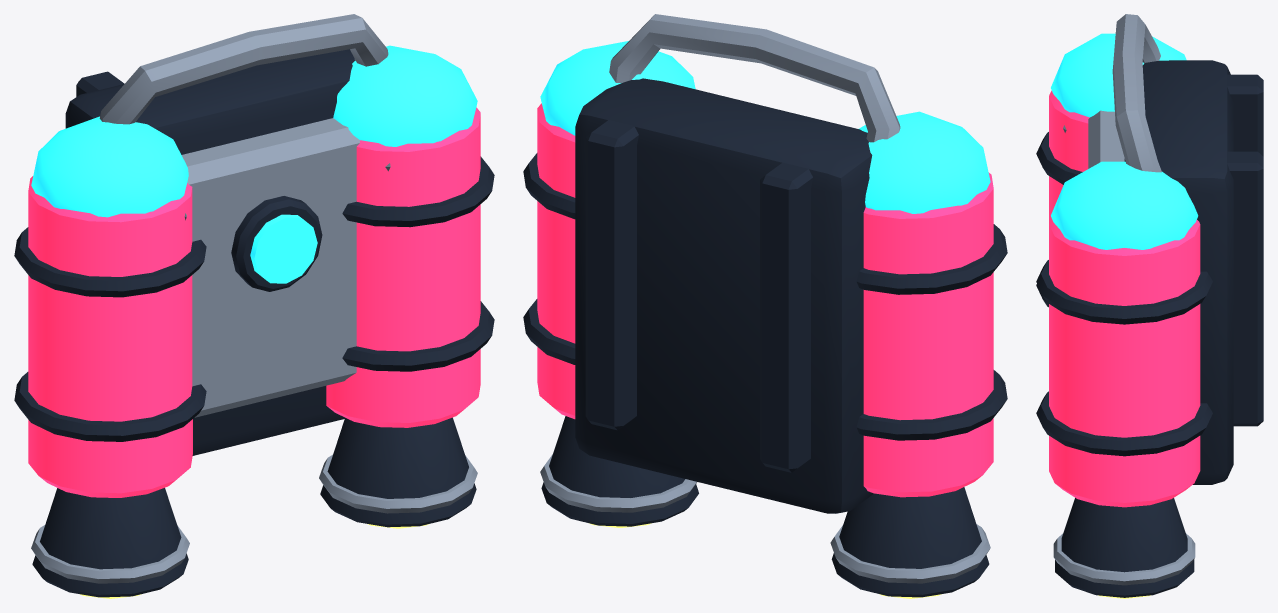
Rendered from jetpack.glb.
3 renders of one model, left to right at view 1: azimuth 30°, elevation 25°; view 2: azimuth 150°, elevation 25°; view 3: azimuth 270°, elevation 25°, orthographic. The views are drawn at different scales.
Parts seen in each view (by area): view 1: Jetpack; view 2: Jetpack; view 3: Jetpack.
Part boxes in pixels (x1=…): Jetpack: x1=14, y1=14, x2=494, y2=598; Jetpack: x1=523, y1=14, x2=1007, y2=598; Jetpack: x1=1036, y1=14, x2=1263, y2=598.
Size of the model in its own units: 0.792 by 0.8397 by 0.376.
